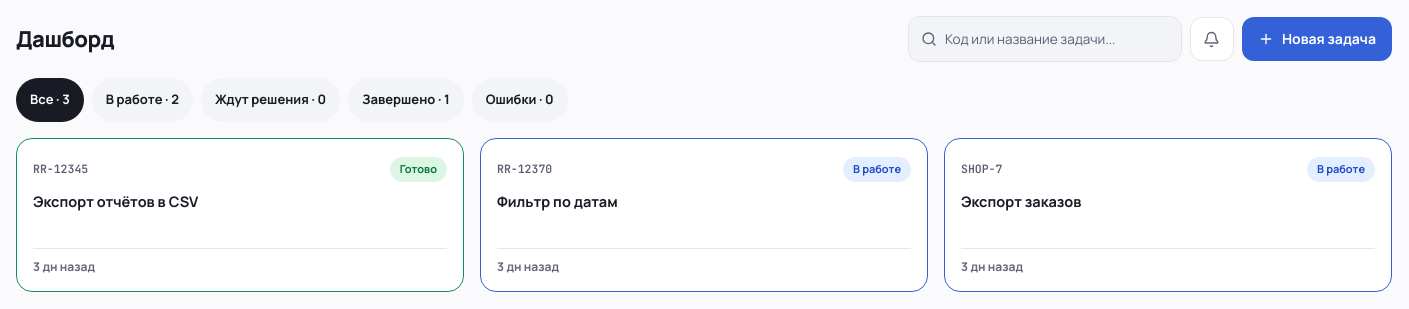
Test: DashboardPage › поиск › ничего не нашлось — подсказка сбросить фильтр
Expected: the link "RR-12345" is shown, [33,160,88,177]
Type "RR-99999" into the field named "Найти задачу по коду или названию".
click(1057, 39); type("RR-99999")  # box [945,17,1169,61]
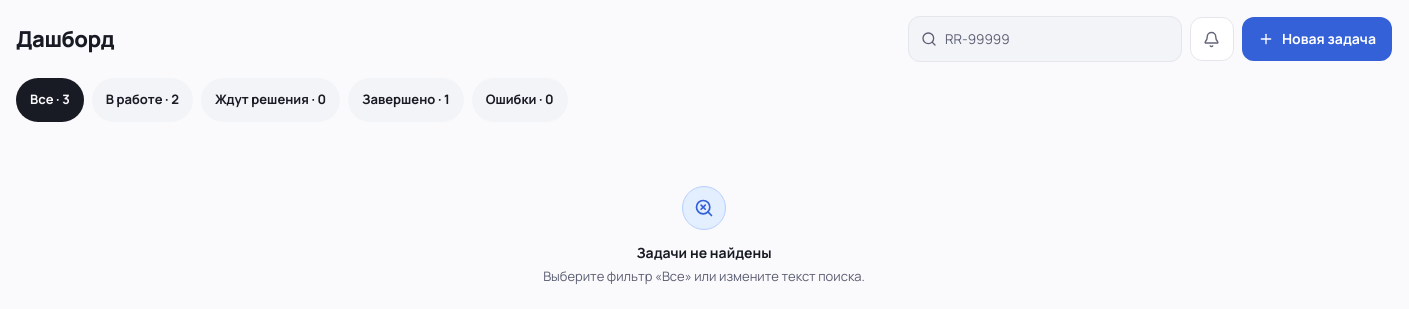
Expected: the text "Задачи не найдены" is shown, [636,242,772,263]
